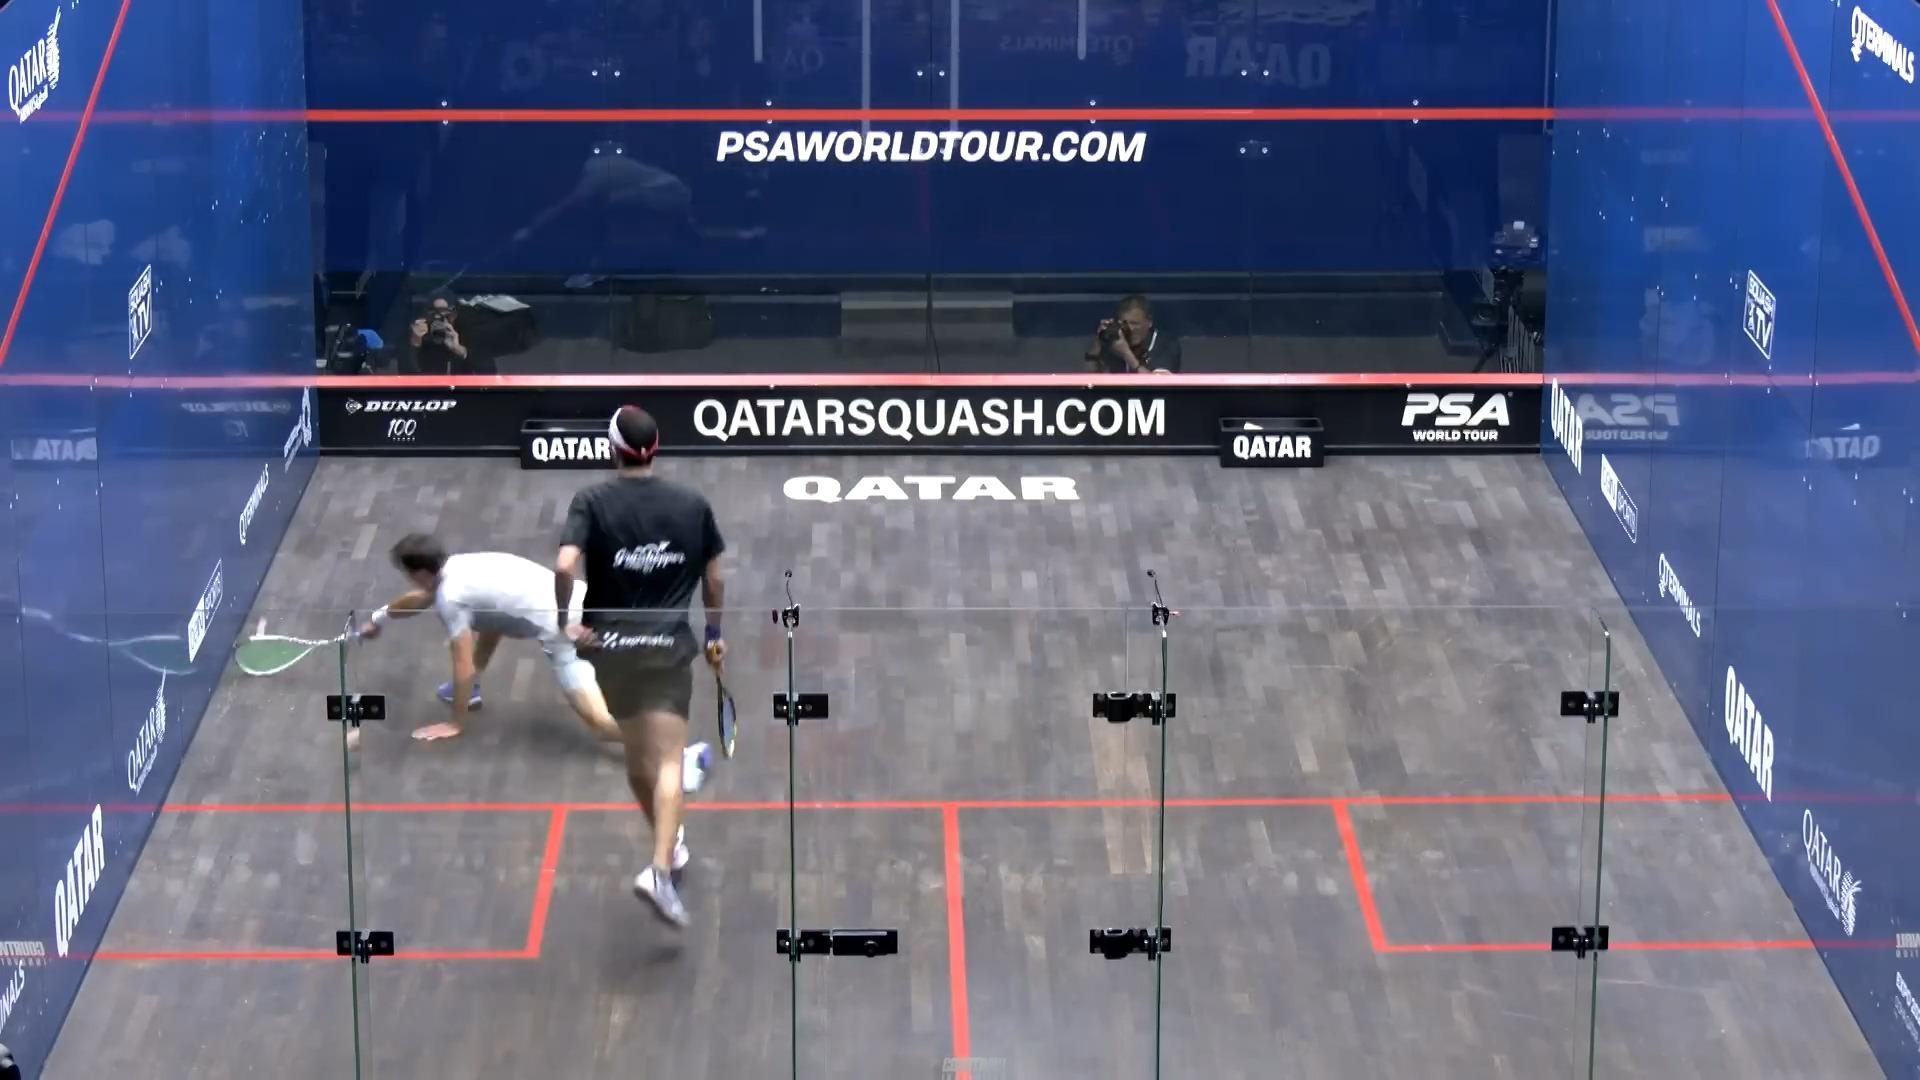Racket: (225, 621, 382, 687), (704, 662, 749, 767)
